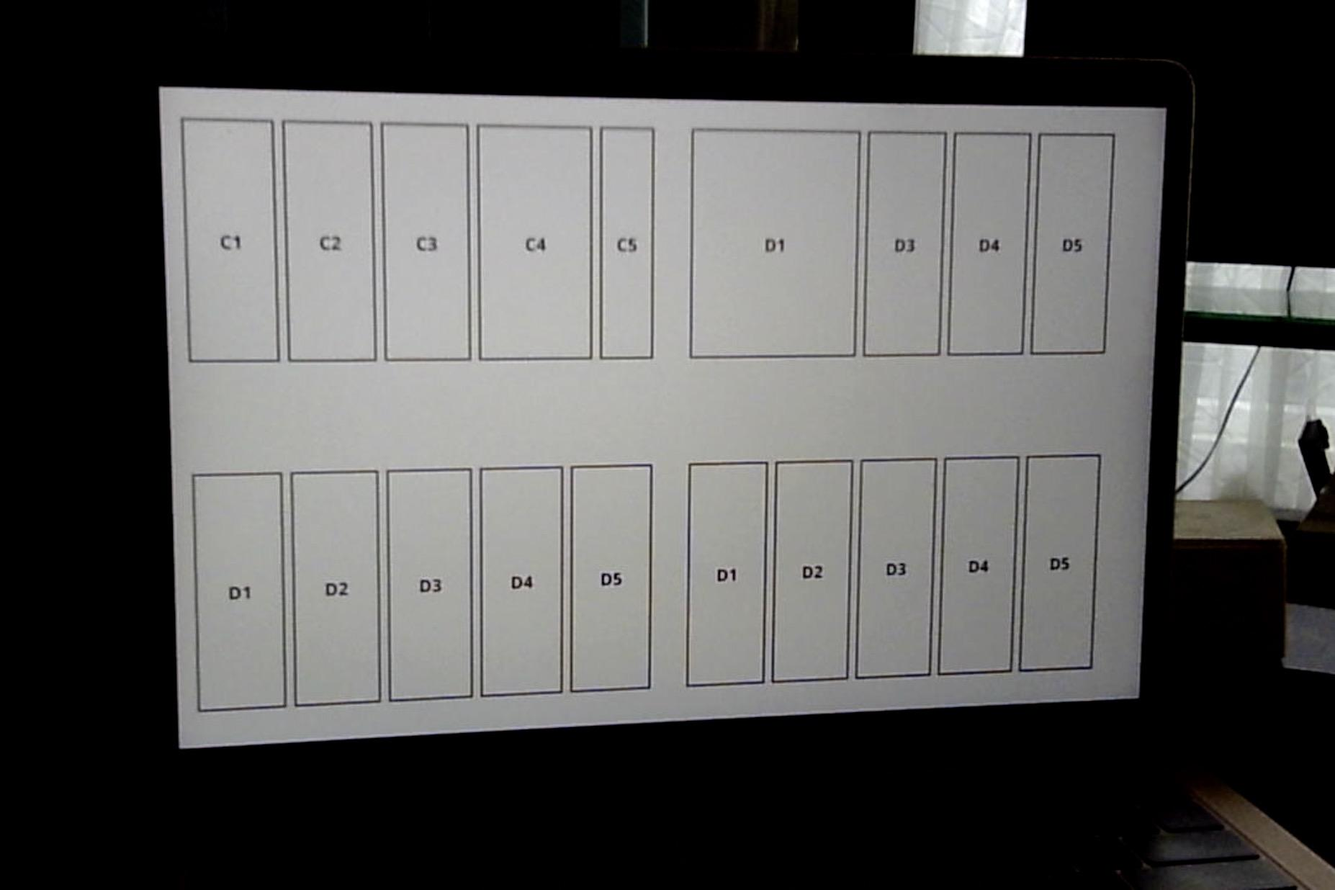parking space: (692, 130, 858, 357), (480, 126, 590, 359), (183, 119, 276, 361), (284, 122, 375, 361), (194, 474, 285, 710), (382, 125, 469, 359), (293, 472, 380, 706), (389, 469, 472, 700), (864, 131, 945, 356), (482, 467, 561, 696), (948, 134, 1030, 354), (573, 464, 652, 691), (1033, 133, 1113, 352), (688, 462, 766, 685), (773, 462, 852, 681), (938, 457, 1017, 673), (1021, 455, 1100, 670), (858, 459, 935, 677), (601, 128, 652, 357), (886, 561, 907, 577), (979, 238, 999, 252)
